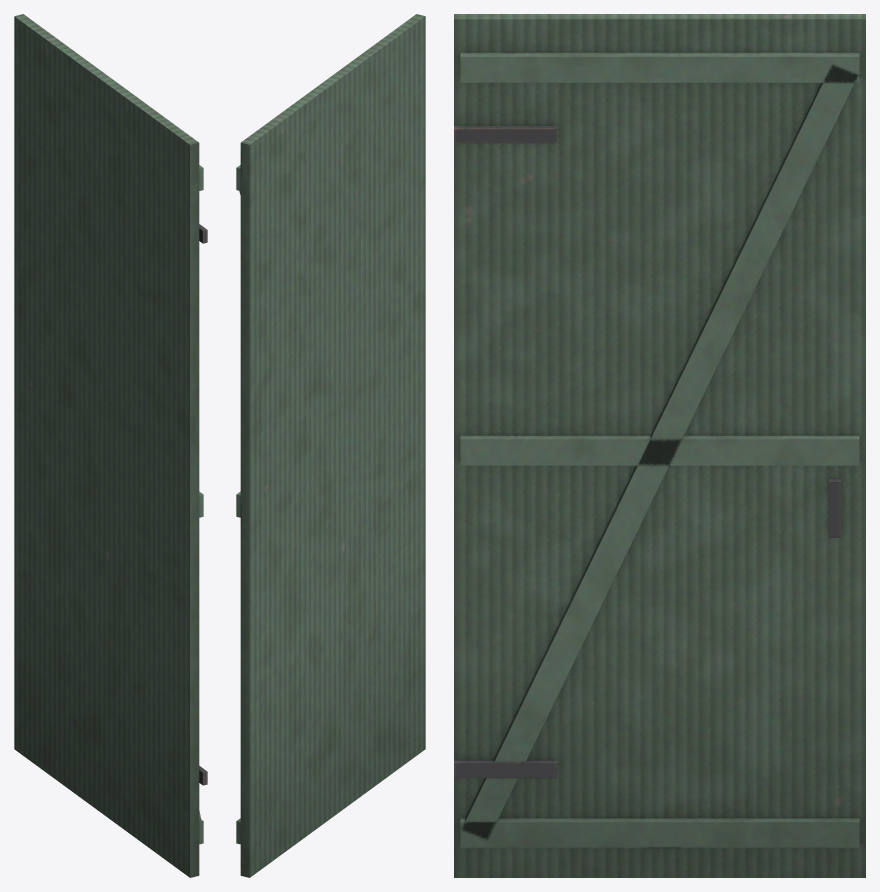
The model's file is hangar_gate.glb.
The picture shows the model from 3 angles, left to right: view 1: azimuth 30°, elevation 25°; view 2: azimuth 150°, elevation 25°; view 3: azimuth 270°, elevation 25°; orthographic projection. The views are drawn at different scales.
Visible parts, largest first — view 1: hangar_gate; view 2: hangar_gate; view 3: hangar_gate.
Boxes of the visible parts, box(x1,y1,x2,y2) form: hangar_gate: box(14, 14, 207, 877); hangar_gate: box(236, 14, 425, 877); hangar_gate: box(454, 14, 865, 877).
Bounding box in the file's own units: 0.12 × 4.6 × 2.
Materials: 1 (1 with a texture image).
